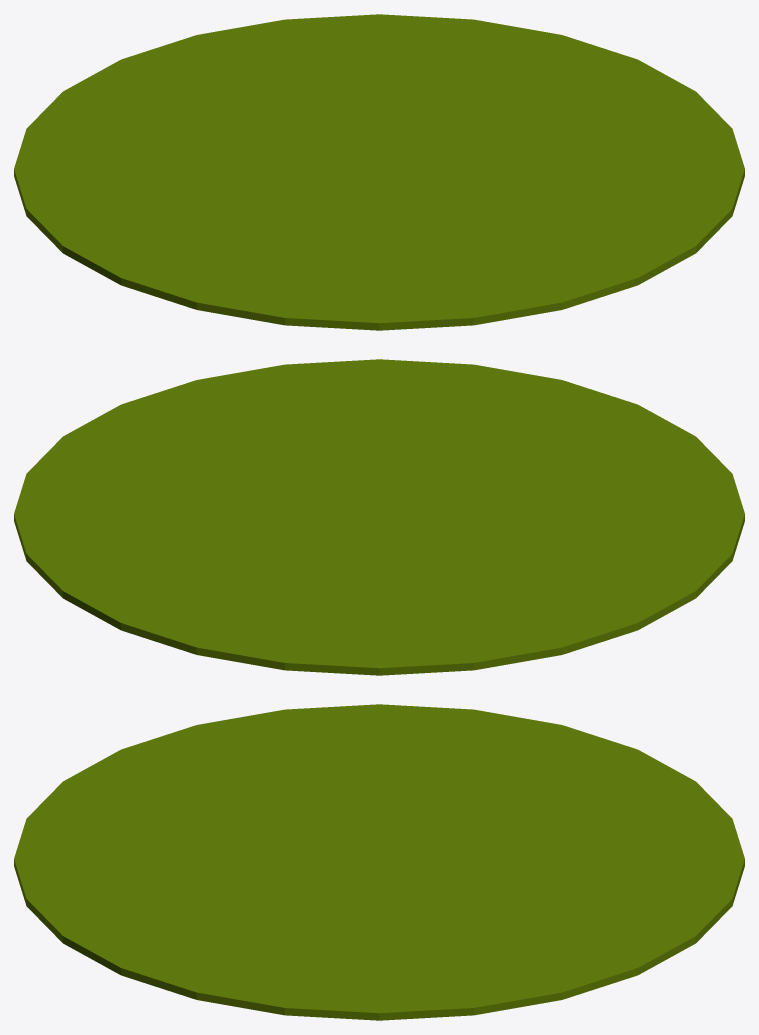
File: The walkingSurface.fbx
3 renders of one model, top to bottom at view 1: azimuth 30°, elevation 25°; view 2: azimuth 150°, elevation 25°; view 3: azimuth 270°, elevation 25°, orthographic.
Visible parts, largest first — view 1: Play_Area; view 2: Play_Area; view 3: Play_Area.
Part boxes in pixels (x1=…): Play_Area: x1=14, y1=14, x2=744, y2=330; Play_Area: x1=14, y1=359, x2=744, y2=675; Play_Area: x1=14, y1=704, x2=744, y2=1020.
Bounding box in the file's own units: 6660 × 74.89 × 6660.
